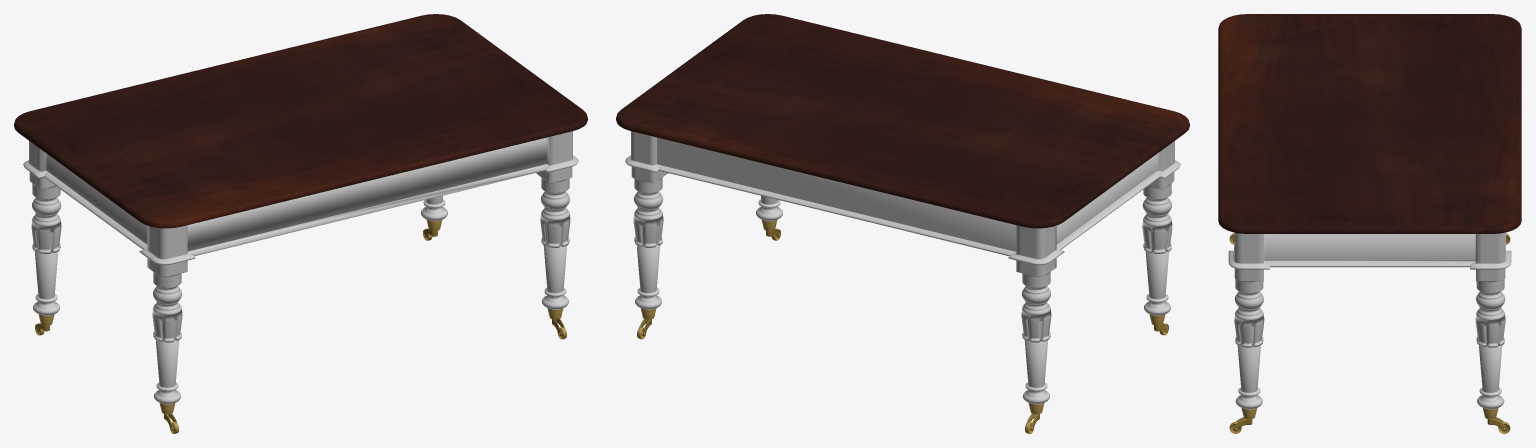
File: Table.fbx
3 views of the same model, side by side, from view 1: azimuth 30°, elevation 25°; view 2: azimuth 150°, elevation 25°; view 3: azimuth 270°, elevation 25° (orthographic).
Visible parts, largest first — view 1: Table Top, Legs and Rails, Brass Wheels; view 2: Table Top, Legs and Rails, Brass Wheels; view 3: Table Top, Legs and Rails, Brass Wheels.
Boxes of the visible parts, <box> form: Table Top: <box>14,14,587,228</box>; Legs and Rails: <box>23,131,578,404</box>; Brass Wheels: <box>35,219,566,433</box>; Table Top: <box>616,14,1189,228</box>; Legs and Rails: <box>625,131,1180,404</box>; Brass Wheels: <box>637,219,1168,433</box>; Table Top: <box>1218,14,1521,233</box>; Legs and Rails: <box>1228,232,1511,409</box>; Brass Wheels: <box>1229,233,1510,433</box>.
Bounding box in the file's own units: 1371 × 646 × 814.
